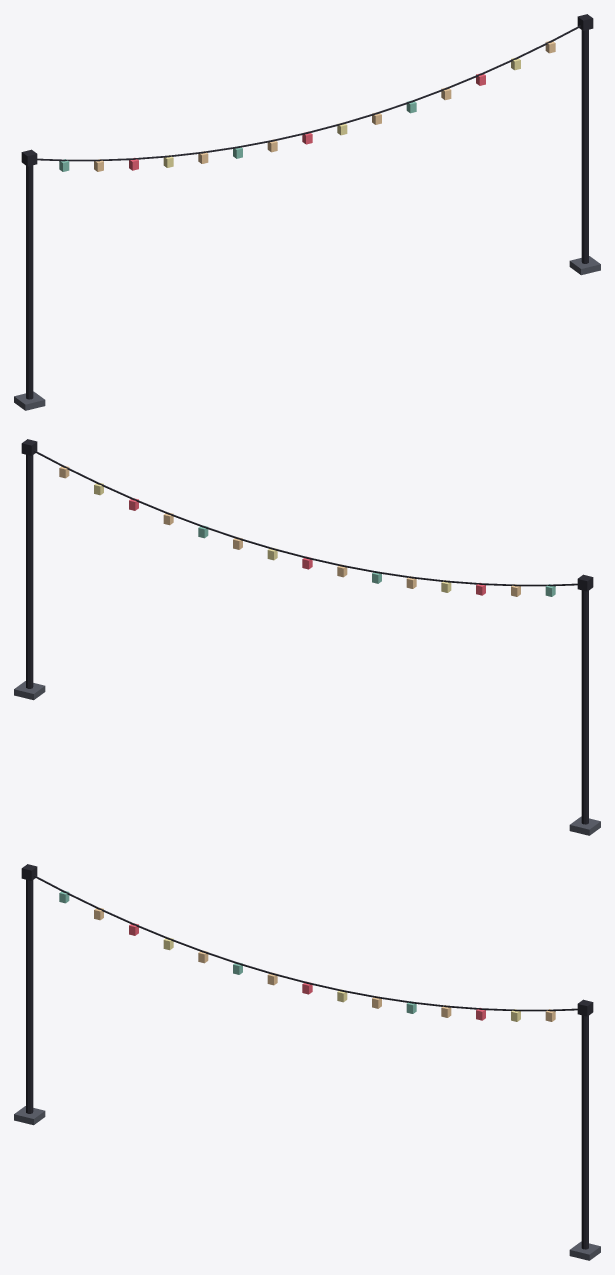
The model's file is CatCafe_Alley_StringLightsLong.glb.
The picture shows the model from 3 angles, top to bottom: view 1: azimuth 30°, elevation 25°; view 2: azimuth 150°, elevation 25°; view 3: azimuth 330°, elevation 25°; orthographic projection.
Parts seen in each view (by area): view 1: CatCafe_Alley_StringLightsLong, CatCafe_Alley_StringLightsLong_Bulbs, CatCafe_Alley_StringLightsLong_Decor; view 2: CatCafe_Alley_StringLightsLong, CatCafe_Alley_StringLightsLong_Bulbs, CatCafe_Alley_StringLightsLong_Decor; view 3: CatCafe_Alley_StringLightsLong, CatCafe_Alley_StringLightsLong_Bulbs, CatCafe_Alley_StringLightsLong_Decor.
Part boxes in pixels (bbox=[...]): CatCafe_Alley_StringLightsLong: bbox=[14, 14, 600, 410]; CatCafe_Alley_StringLightsLong_Bulbs: bbox=[59, 41, 555, 171]; CatCafe_Alley_StringLightsLong_Decor: bbox=[37, 25, 580, 161]; CatCafe_Alley_StringLightsLong: bbox=[14, 439, 600, 835]; CatCafe_Alley_StringLightsLong_Bulbs: bbox=[59, 466, 555, 596]; CatCafe_Alley_StringLightsLong_Decor: bbox=[34, 450, 577, 586]; CatCafe_Alley_StringLightsLong: bbox=[14, 864, 600, 1260]; CatCafe_Alley_StringLightsLong_Bulbs: bbox=[59, 891, 555, 1021]; CatCafe_Alley_StringLightsLong_Decor: bbox=[34, 875, 577, 1011].
Size of the model in its own units: 29 by 12.1 by 1.
1 material, 1 textured.
